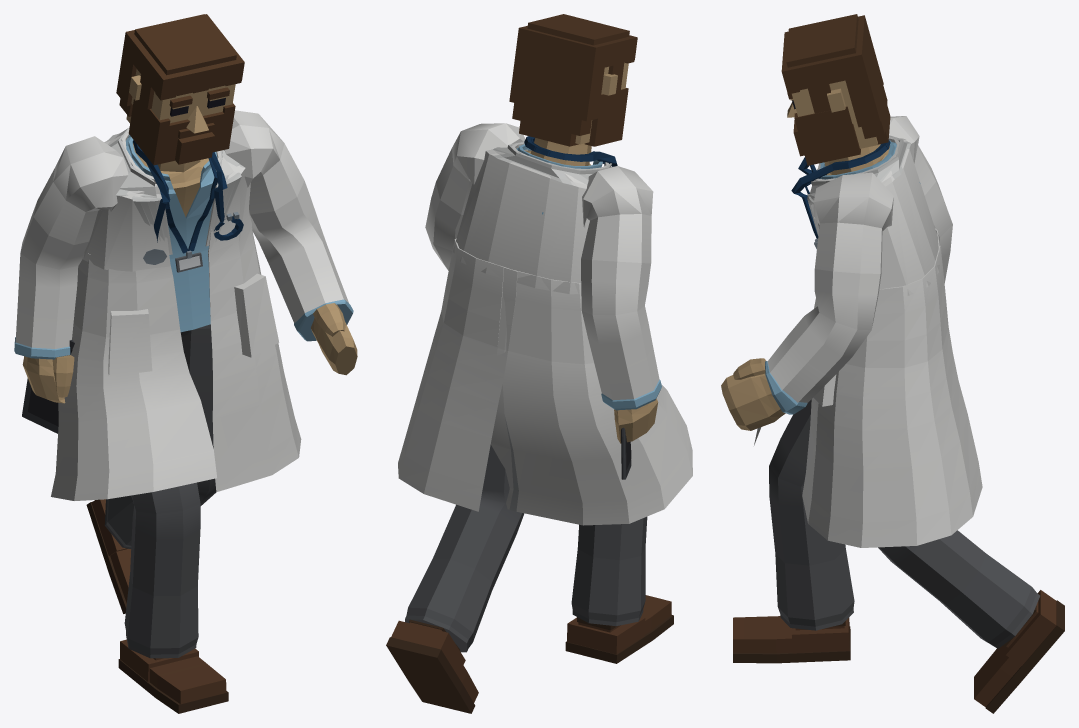
Rendered from doctor-d49de0__walk5.glb.
3 renders of one model, left to right at view 1: azimuth 30°, elevation 25°; view 2: azimuth 150°, elevation 25°; view 3: azimuth 270°, elevation 25°, orthographic.
Parts seen in each view (by area): view 1: doctor-d49de0__walk5; view 2: doctor-d49de0__walk5; view 3: doctor-d49de0__walk5.
Part boxes in pixels (bbox=[...]): doctor-d49de0__walk5: bbox=[14, 14, 357, 713]; doctor-d49de0__walk5: bbox=[386, 14, 692, 713]; doctor-d49de0__walk5: bbox=[721, 14, 1064, 713].
Bounding box in the file's own units: 0.748 × 1.72 × 0.8278.
